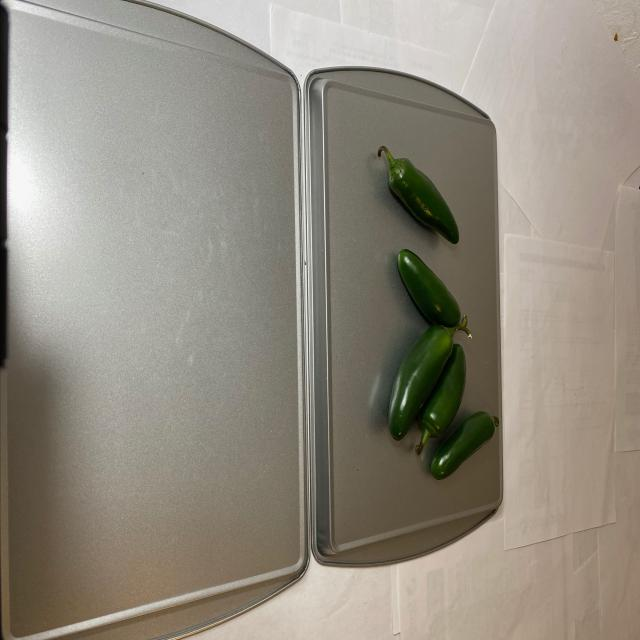chilli: (362, 144, 503, 487)
